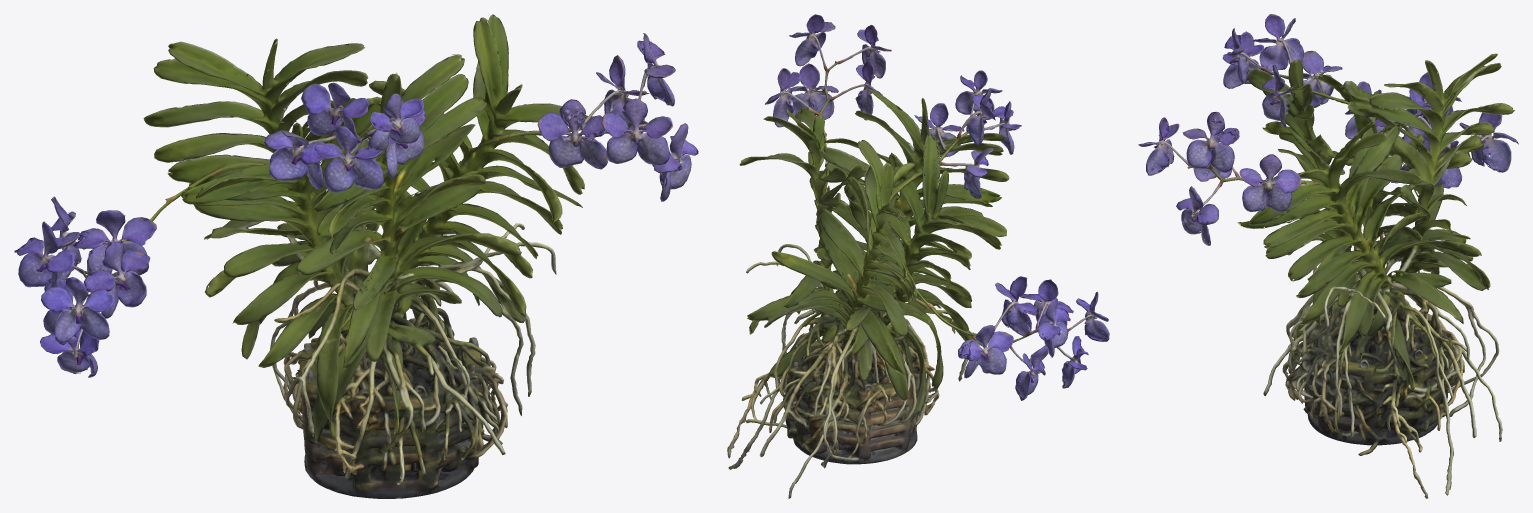
Rendered from orchid1.gltf.
3 views of the same model, side by side, from view 1: azimuth 30°, elevation 25°; view 2: azimuth 150°, elevation 25°; view 3: azimuth 270°, elevation 25° (orthographic). The views are drawn at different scales.
Bounding box in the file's own units: 7.34 × 6.5 × 5.65.
1 material, 1 textured.
